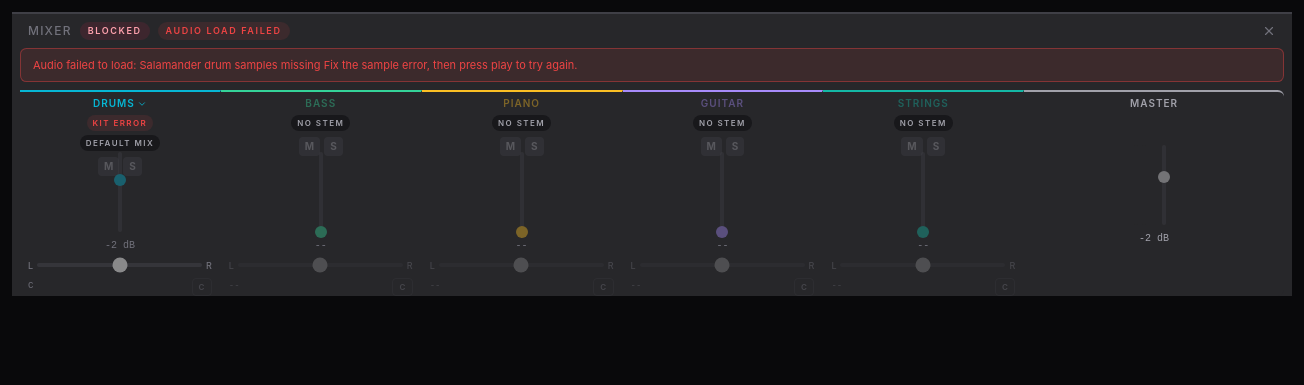
MixerDrawer › shows drum sub-mix error truth when sample loading fails
Click the button "DRUMS" at x=120, y=104, box [93,96,147,111]
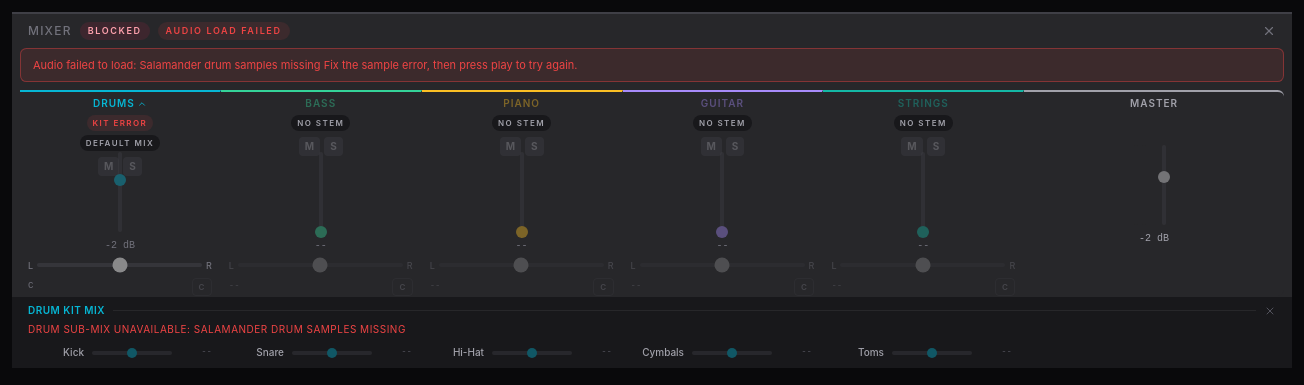
Expected: the text "Audio failed to load: Salamander drum samples missing Fix the sample error, then press play to try again." is shown, [33,58,578,72]
Now the text "Drum sub-mix unavailable: Salamander drum samples missing" is shown, box [28,323,406,335]
Now the slider with id "drum-sub-kick" is disabled, box [92,350,172,354]
